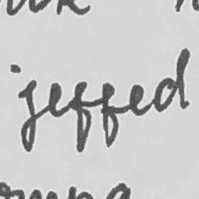d: (151, 44, 192, 114)
e: (126, 83, 148, 118), (45, 81, 65, 119)
f: (68, 79, 94, 154), (99, 79, 120, 151)
j: (16, 78, 42, 154)
